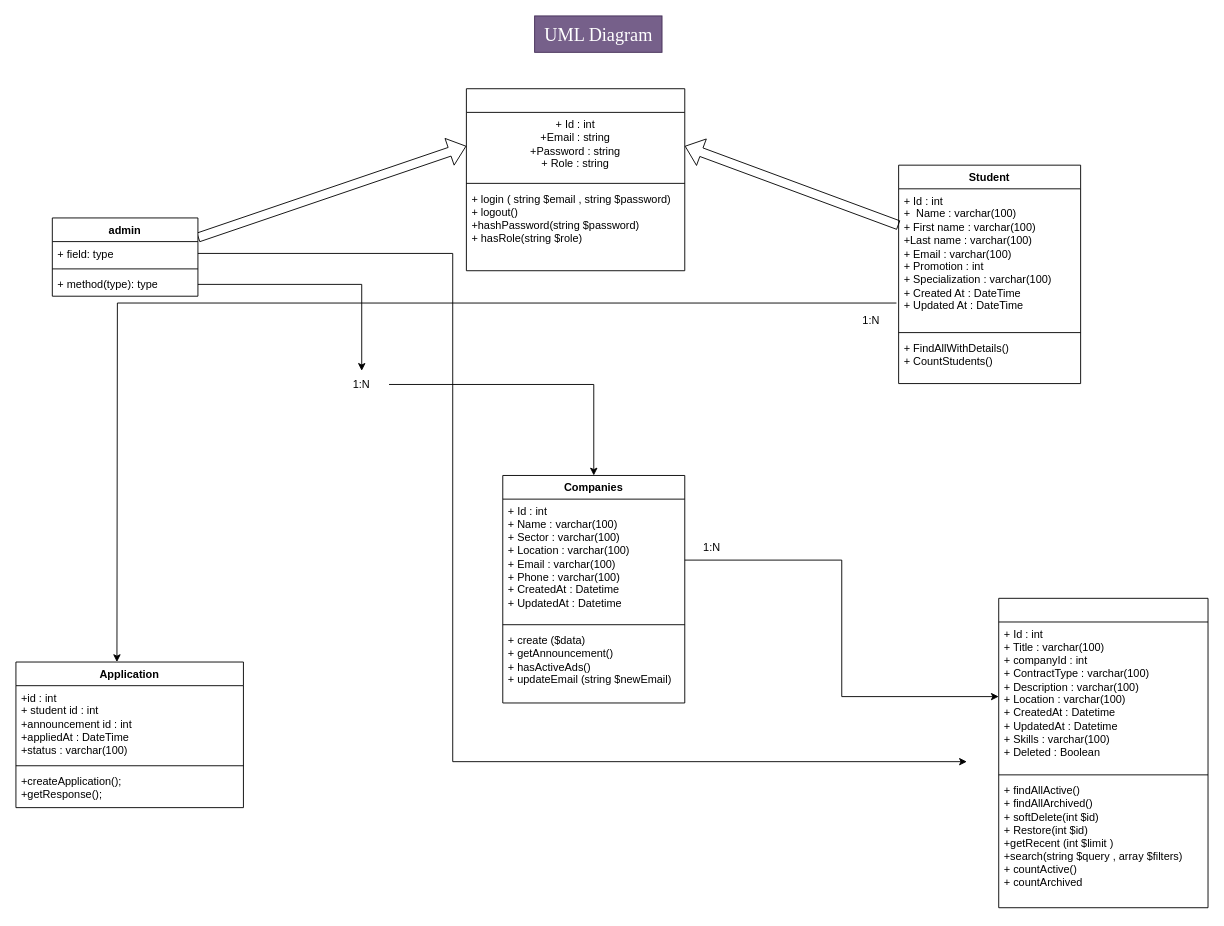
Image size: 1224x926. Some labels were removed from this diagram. The shapes that lost their labels are listed below. From the top down, each one's box as (x1, y1, x2, y2) in pixels, then its label:
(465, 88, 685, 271): User
(998, 597, 1208, 908): Announcements
